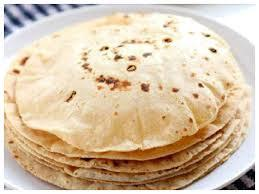roti phulka: (15, 19, 251, 188)
